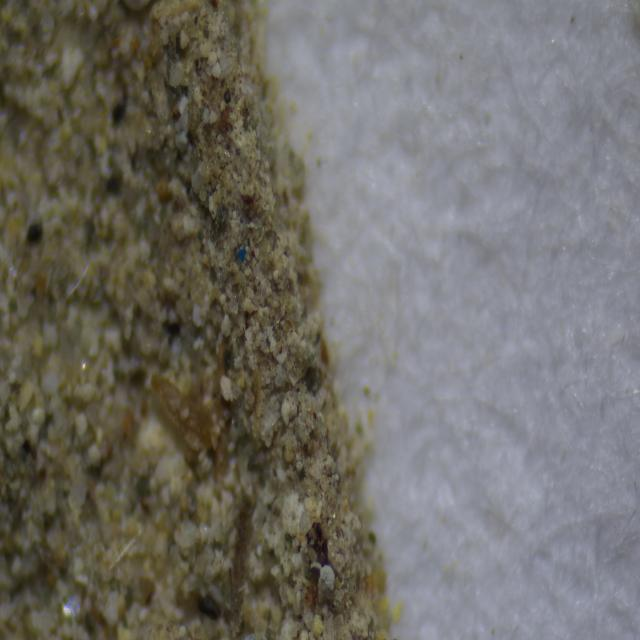microplastic: (231, 242, 252, 263)
